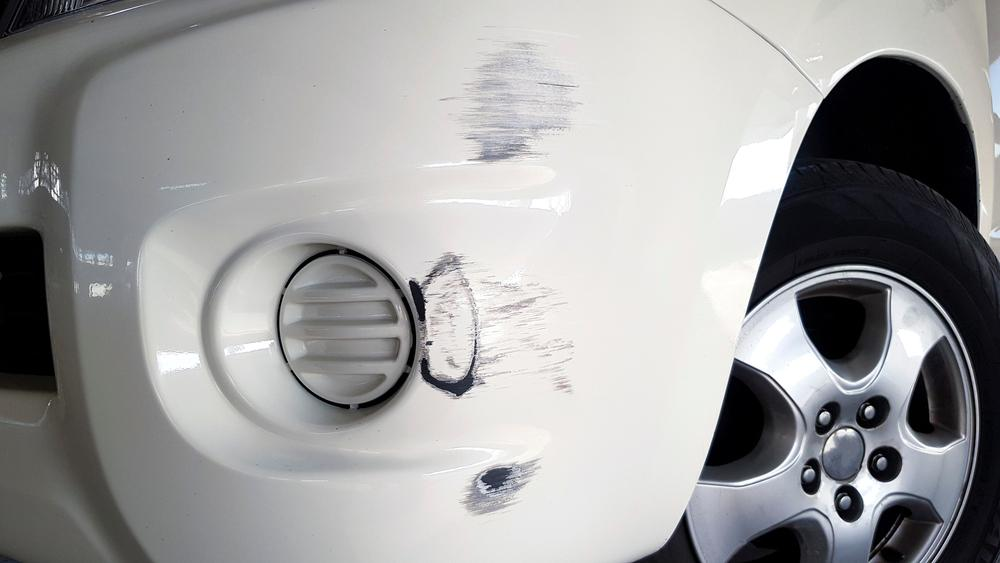scratch: (409, 246, 575, 521), (442, 27, 586, 173)
